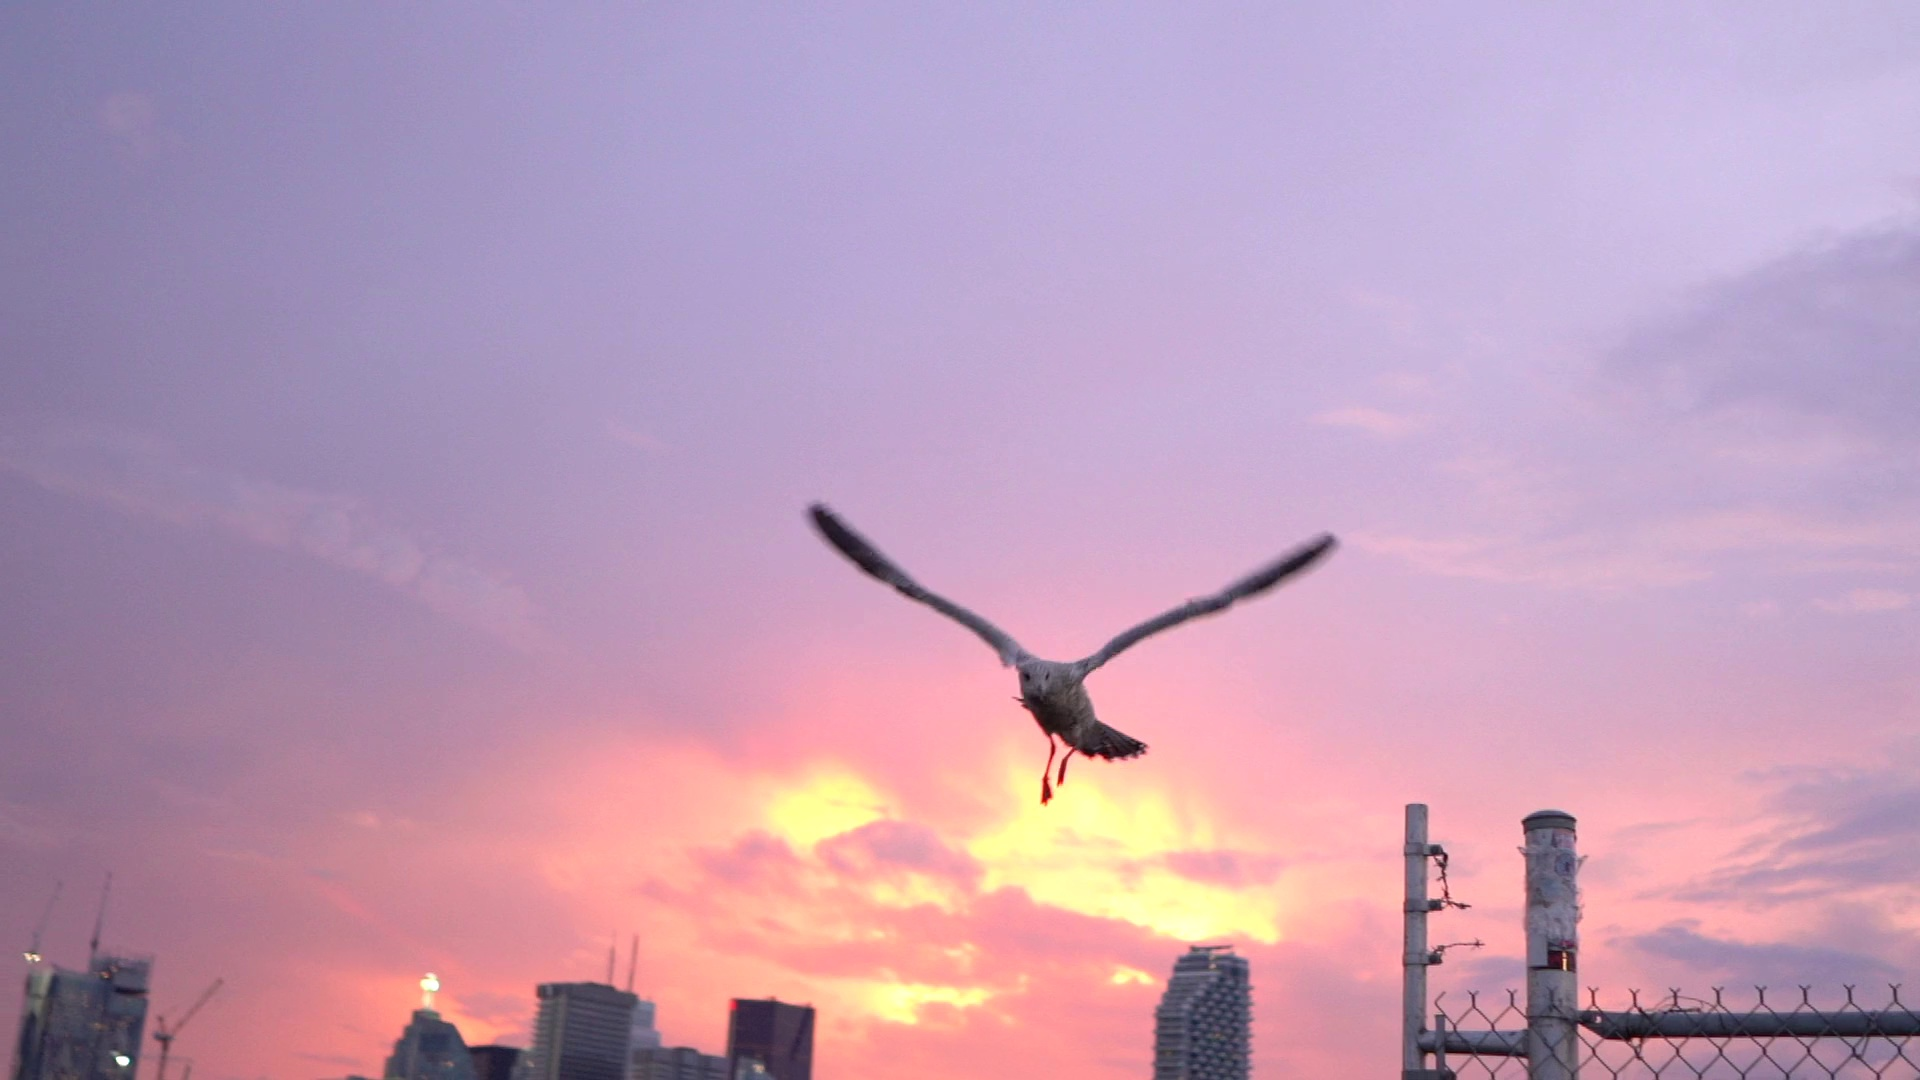bird: (806, 498, 1338, 804)
